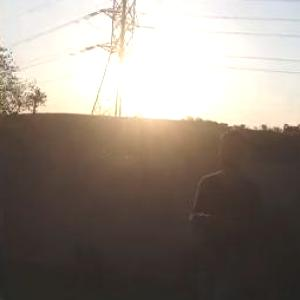follow: (184, 123, 270, 299)
